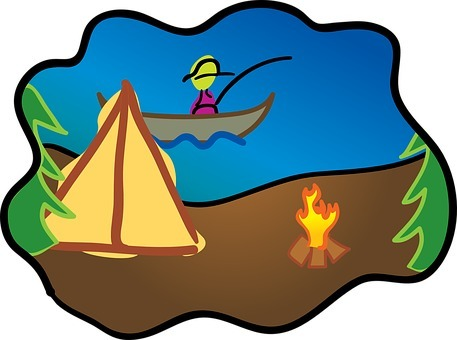boat: (94, 88, 278, 143)
person: (179, 51, 237, 119)
